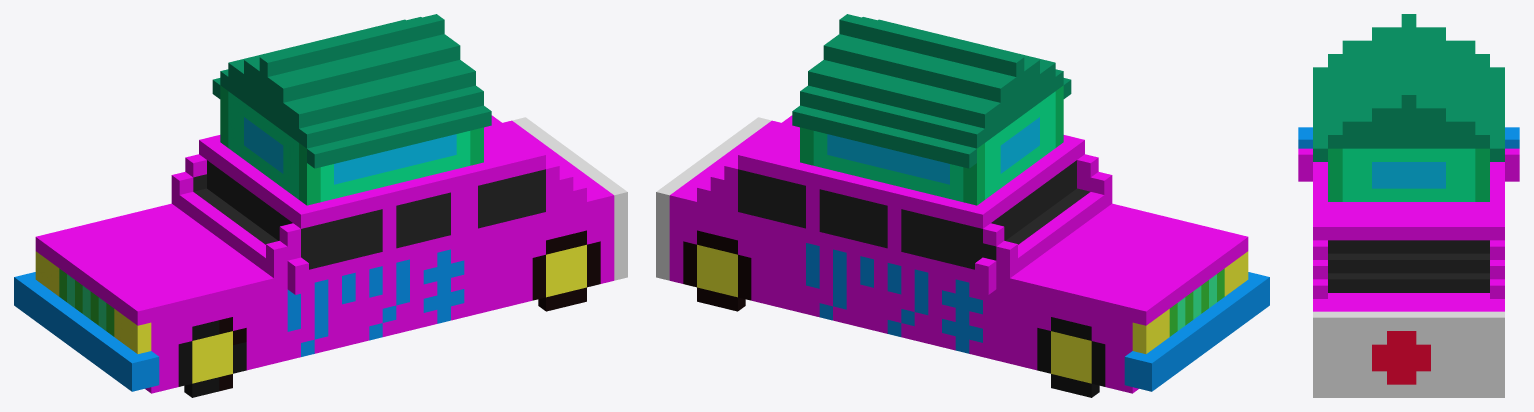
Rendered from car_14.glb.
3 views of the same model, side by side, from view 1: azimuth 30°, elevation 25°; view 2: azimuth 150°, elevation 25°; view 3: azimuth 270°, elevation 25° (orthographic). The views are drawn at different scales.
Parts seen in each view (by area): view 1: ObjObject; view 2: ObjObject; view 3: ObjObject.
Boxes of the visible parts, box(x1,y1,x2,y2) form: ObjObject: box(14, 14, 627, 397); ObjObject: box(656, 14, 1269, 397); ObjObject: box(1298, 14, 1519, 397).
Size of the model in its own units: 3.7 by 1.9 by 1.5.
1 material, 1 textured.
